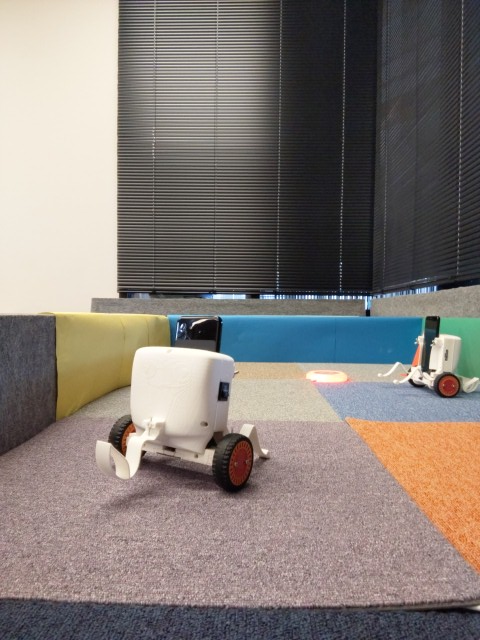bl: (379, 311, 480, 399)
br: (88, 311, 273, 494)
r: (305, 364, 348, 388)
